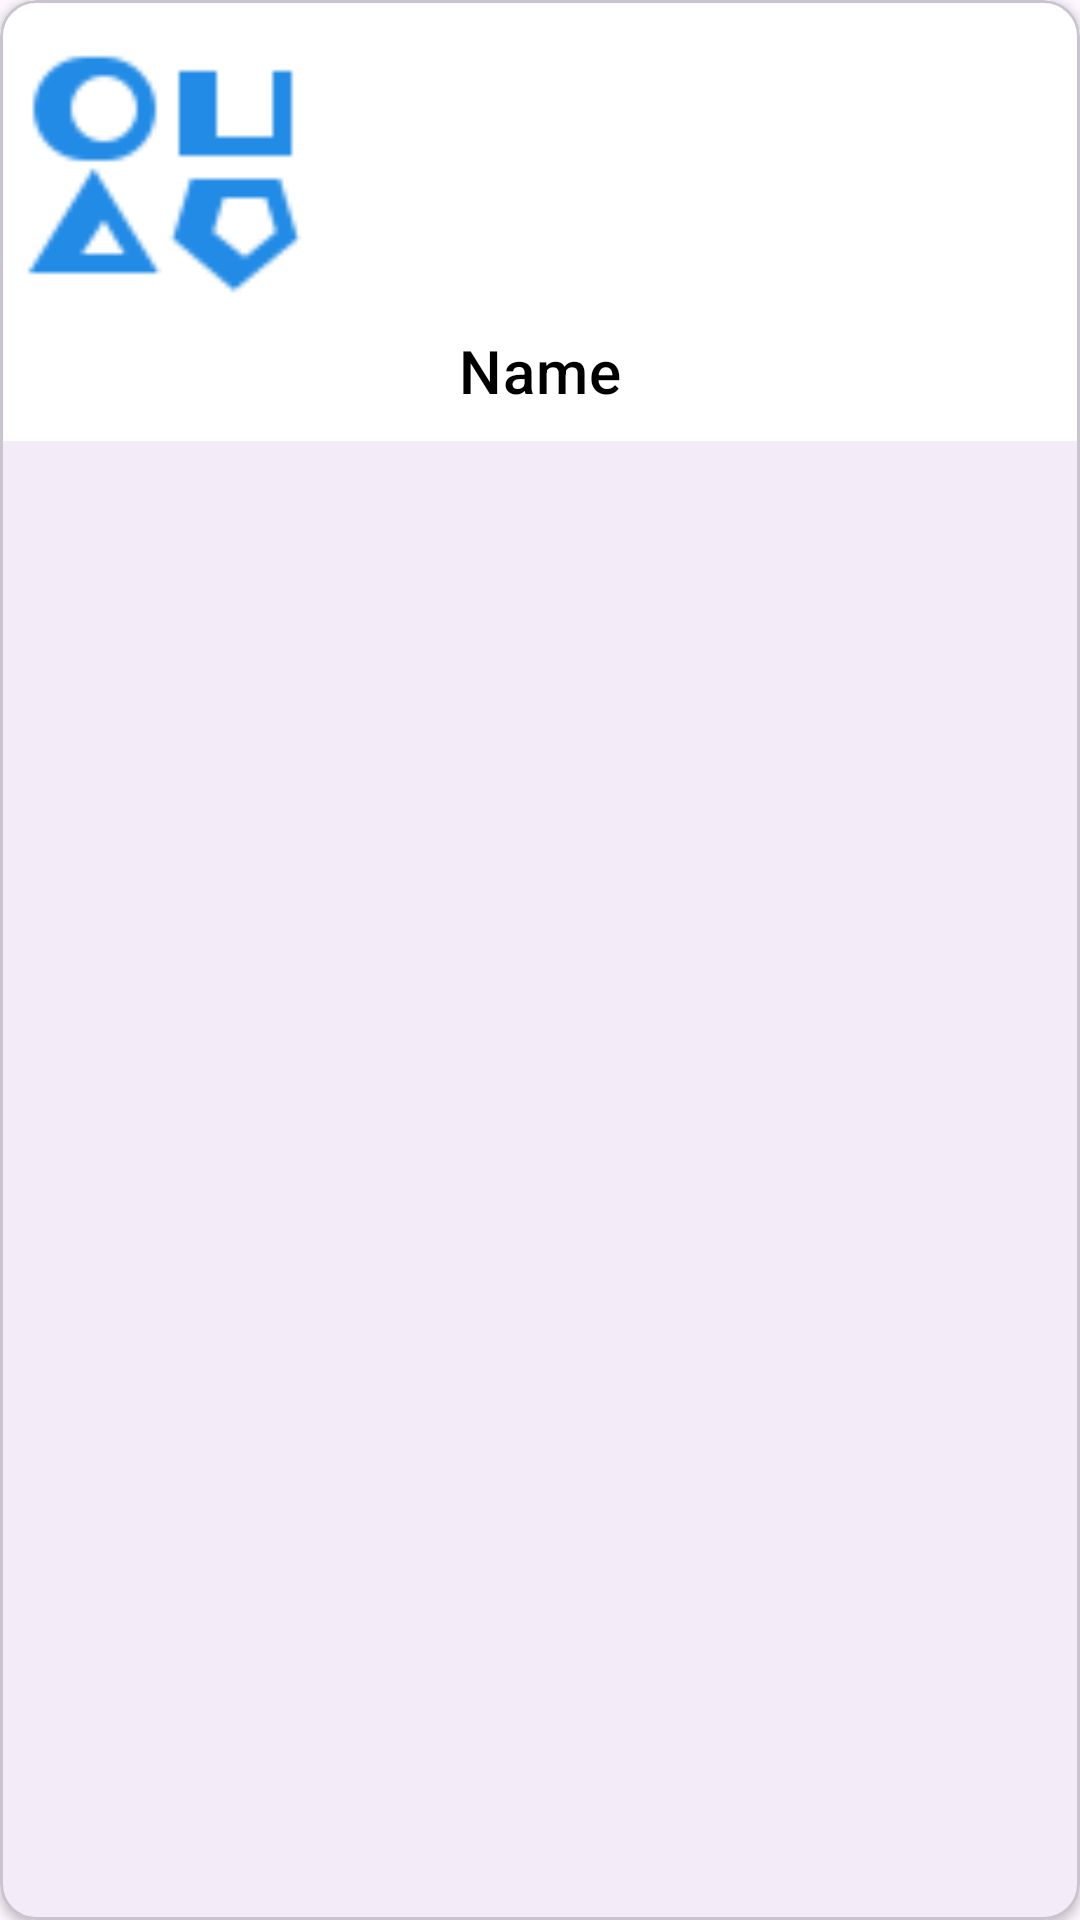

Locate icon controls on the screen. Image size 1080px x 1920px, boxes as [x1, y1, x2, y2].
category: [27, 55, 300, 293]
